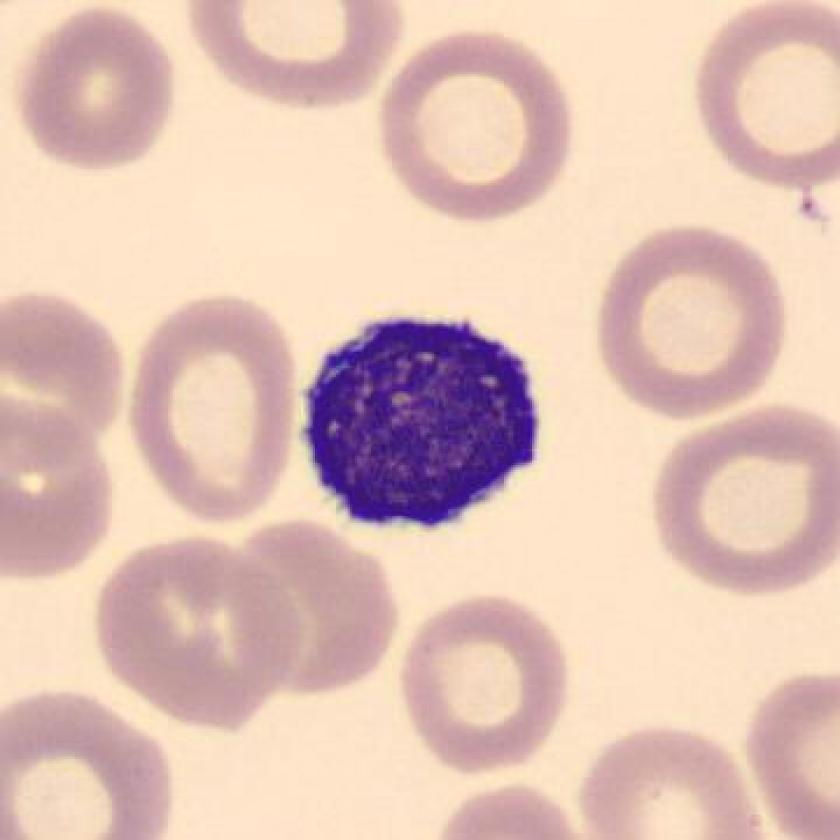lymphocyte: (290, 300, 566, 547)
